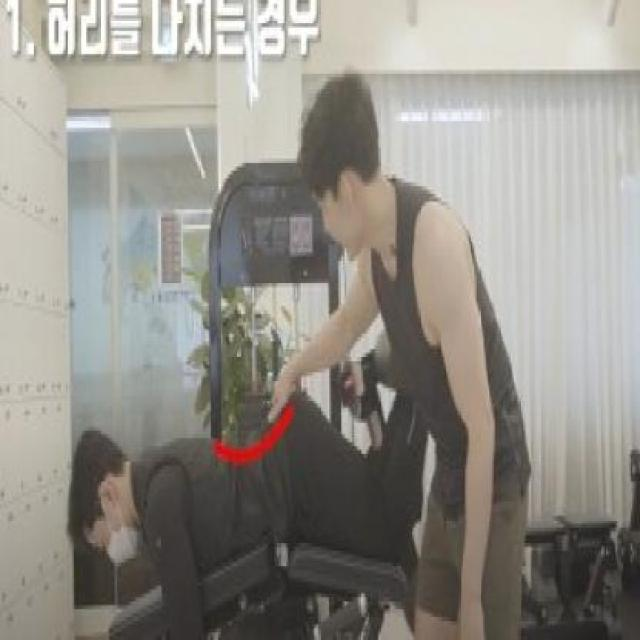reg curl machine: (57, 140, 432, 640)
